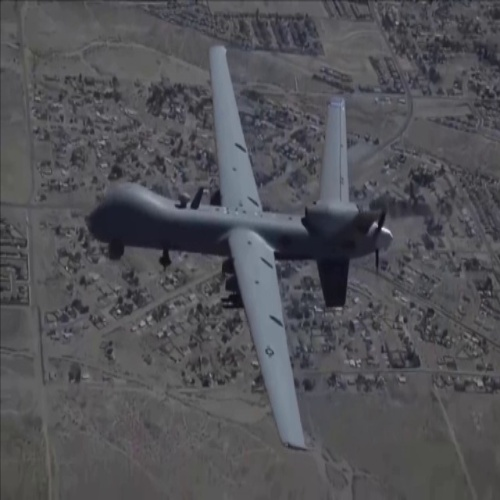uav: (78, 42, 395, 458)
